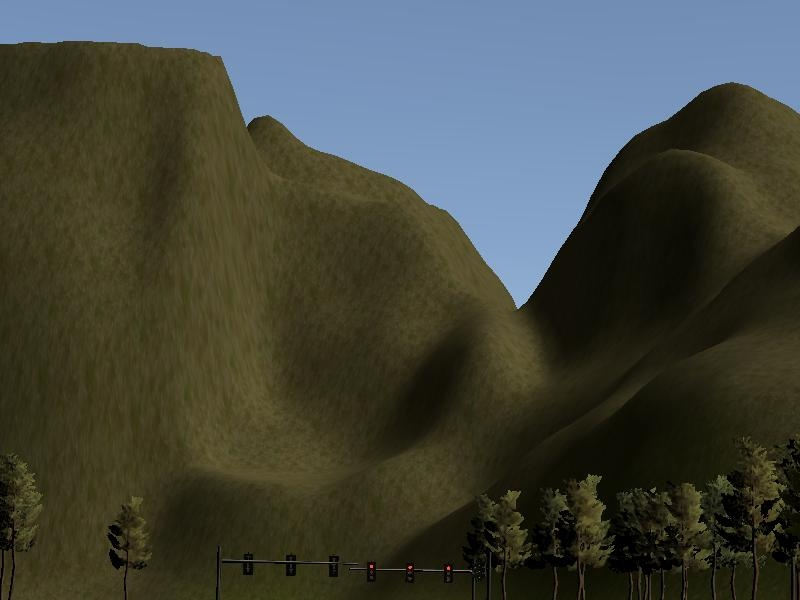red: (362, 556, 381, 585), (439, 559, 456, 587), (401, 562, 418, 585)
